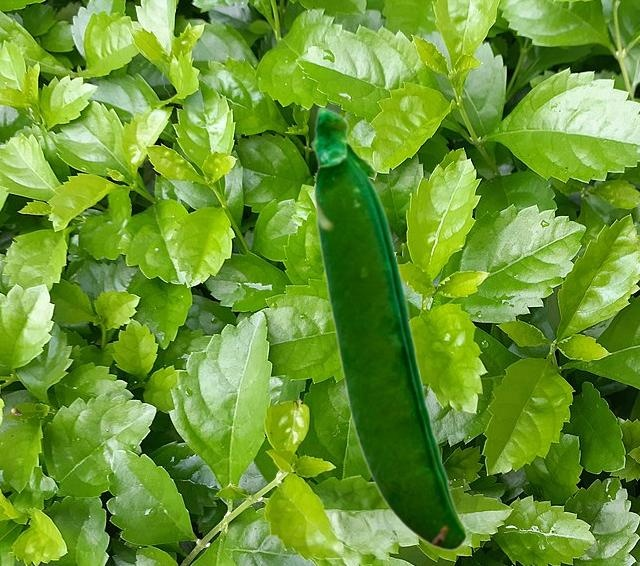pea: (310, 105, 466, 550)
